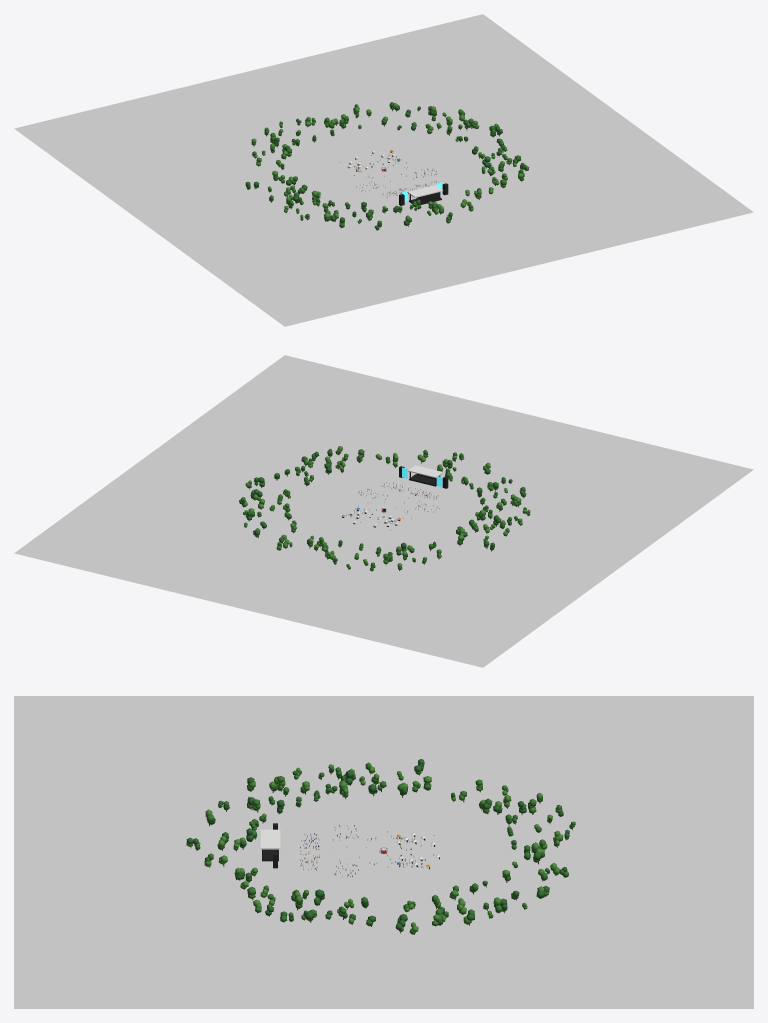
Rendered from Stand_ROCK.glb.
The picture shows the model from 3 angles, top to bottom: view 1: azimuth 30°, elevation 25°; view 2: azimuth 150°, elevation 25°; view 3: azimuth 270°, elevation 25°; orthographic projection. The views are drawn at different scales.
Parts seen in each view (by area): view 1: Entorno_Cesped; view 2: Entorno_Cesped; view 3: Entorno_Cesped.
Boxes of the visible parts, box(x1,y1,x2,y2) form: Entorno_Cesped: box(14, 14, 753, 326); Entorno_Cesped: box(14, 355, 753, 667); Entorno_Cesped: box(14, 696, 753, 1008).
Size of the model in its own units: 600 by 15.02 by 600.
Materials: 123 (3 with a texture image).
